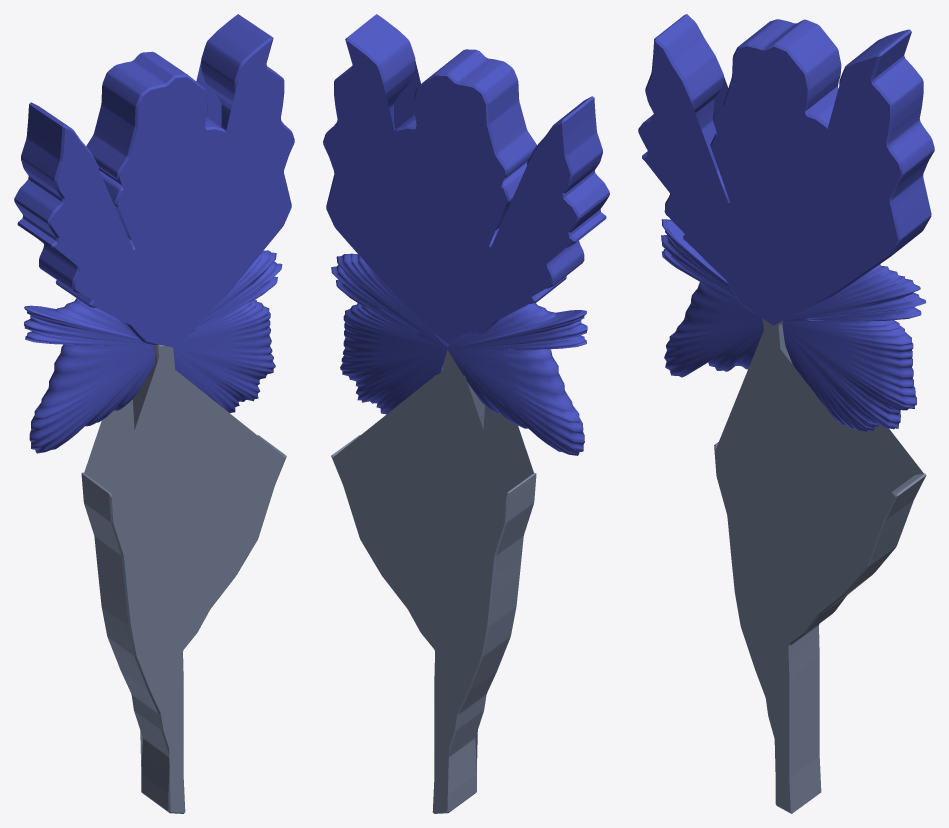
File: fleur_iris_2.fbx
The picture shows the model from 3 angles, left to right: view 1: azimuth 30°, elevation 25°; view 2: azimuth 150°, elevation 25°; view 3: azimuth 330°, elevation 25°; orthographic projection. The views are drawn at different scales.
Parts seen in each view (by area): view 1: fleur_haut, tige, fleur_bas; view 2: fleur_haut, tige, fleur_bas; view 3: fleur_haut, tige, fleur_bas.
Boxes of the visible parts, left/top/right/bottom form: fleur_haut: left=14, top=14, right=294, bottom=347; tige: left=81, top=344, right=286, bottom=813; fleur_bas: left=24, top=250, right=282, bottom=453; fleur_haut: left=323, top=14, right=609, bottom=344; tige: left=331, top=350, right=536, bottom=813; fleur_bas: left=331, top=253, right=587, bottom=455; fleur_haut: left=638, top=14, right=934, bottom=325; tige: left=714, top=318, right=926, bottom=813; fleur_bas: left=661, top=219, right=926, bottom=432.
Size of the model in its own units: 1.55 by 4.33 by 0.4008.
